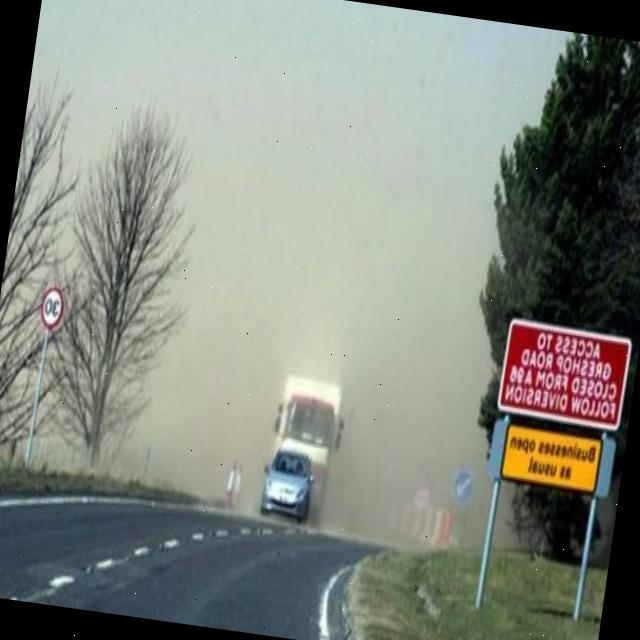bus: (260, 374, 346, 520)
car: (259, 442, 317, 524)
